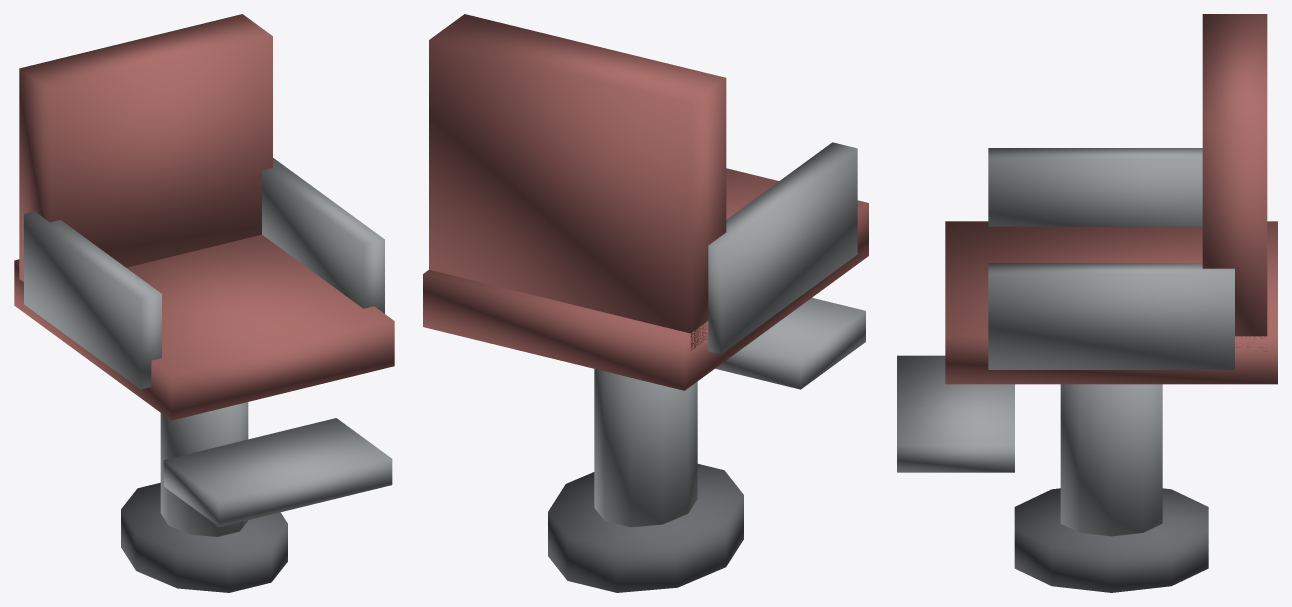
File: barber_chair__deep.glb
3 renders of one model, left to right at view 1: azimuth 30°, elevation 25°; view 2: azimuth 150°, elevation 25°; view 3: azimuth 270°, elevation 25°, orthographic. The views are drawn at different scales.
Parts seen in each view (by area): view 1: world; view 2: world; view 3: world.
Part boxes in pixels (x1=…): world: x1=14, y1=14, x2=394, y2=592; world: x1=423, y1=14, x2=868, y2=592; world: x1=897, y1=14, x2=1277, y2=592.
Size of the model in its own units: 0.68 by 1.22 by 0.8662.
